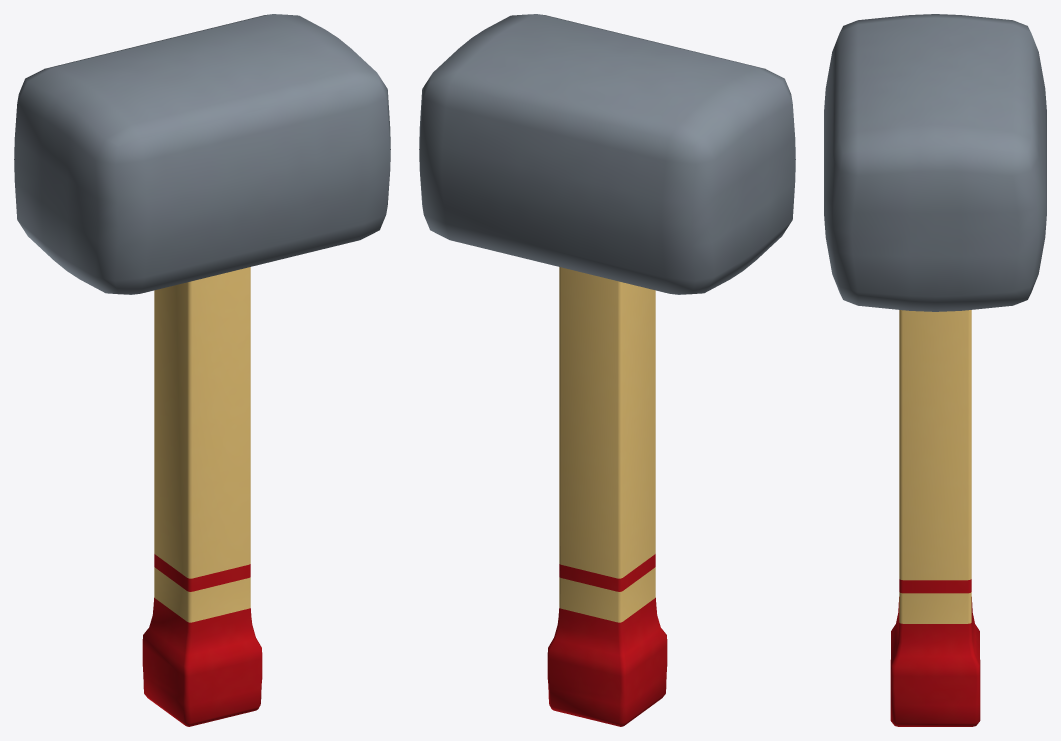
The model's file is Sledgehammer.fbx.
The picture shows the model from 3 angles, left to right: view 1: azimuth 30°, elevation 25°; view 2: azimuth 150°, elevation 25°; view 3: azimuth 270°, elevation 25°; orthographic projection.
Parts seen in each view (by area): view 1: Sledgehammer_Head, Sledgehammer_Handle; view 2: Sledgehammer_Head, Sledgehammer_Handle; view 3: Sledgehammer_Head, Sledgehammer_Handle.
Part boxes in pixels (x1=…): Sledgehammer_Head: x1=14, y1=14, x2=390, y2=294; Sledgehammer_Handle: x1=142, y1=267, x2=262, y2=726; Sledgehammer_Head: x1=419, y1=14, x2=795, y2=294; Sledgehammer_Handle: x1=547, y1=267, x2=667, y2=726; Sledgehammer_Head: x1=824, y1=14, x2=1046, y2=311; Sledgehammer_Handle: x1=890, y1=310, x2=980, y2=726.
Bounding box in the file's own units: 45.49 × 94.45 × 29.78.
